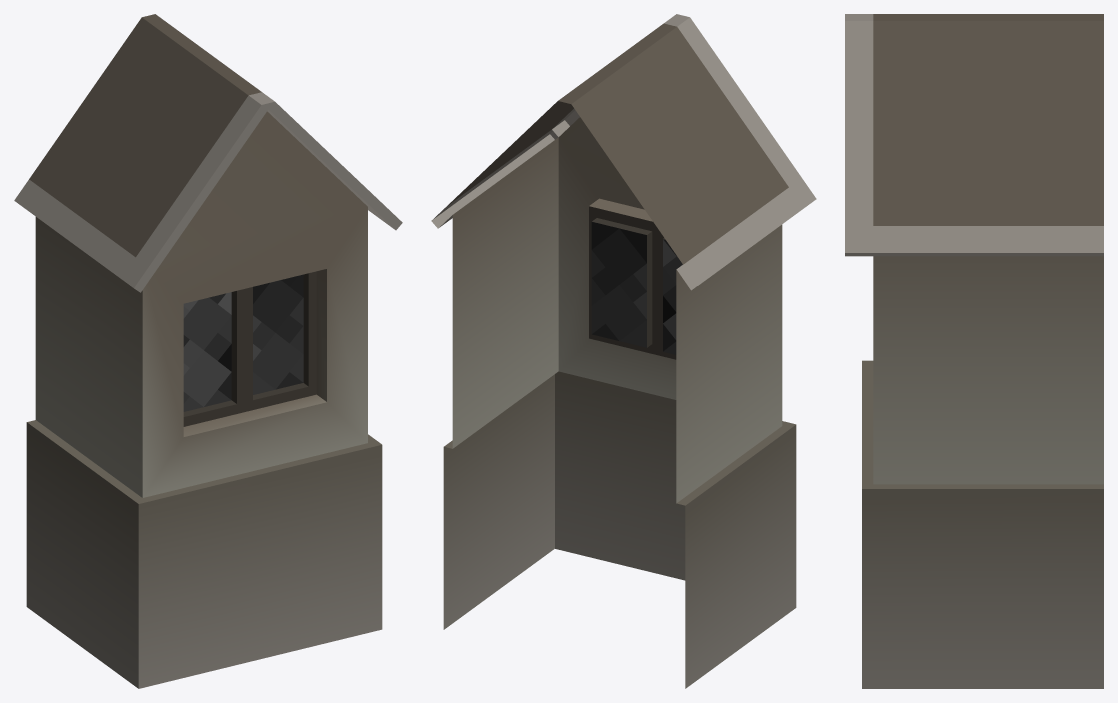
File: Front_F.fbx
3 views of the same model, side by side, from view 1: azimuth 30°, elevation 25°; view 2: azimuth 150°, elevation 25°; view 3: azimuth 270°, elevation 25° (orthographic). The views are drawn at different scales.
Visible parts, largest first — view 1: Front_F; view 2: Front_F; view 3: Front_F.
Boxes of the visible parts, x1,y1,x2,y2 form: Front_F: [14, 14, 402, 688]; Front_F: [431, 14, 816, 688]; Front_F: [845, 14, 1103, 688].
Bounding box in the file's own units: 298 × 595 × 230.
